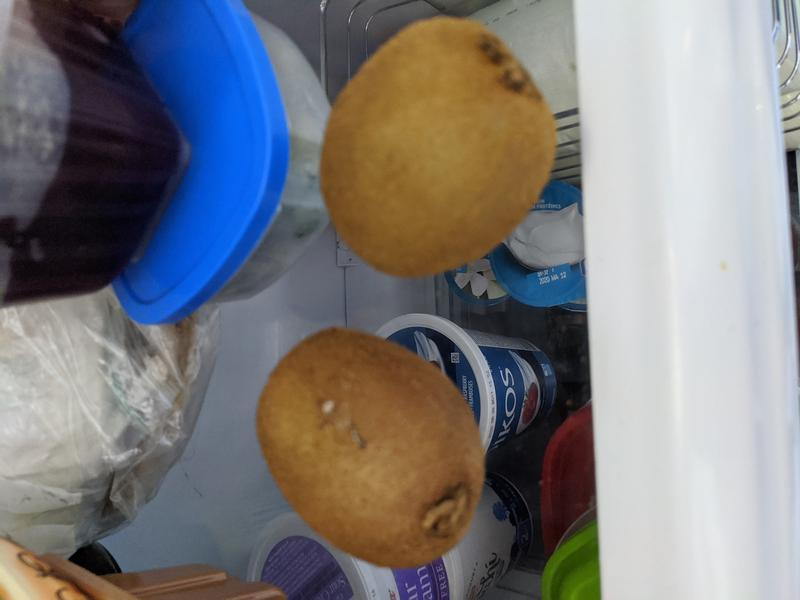kiwi: (318, 15, 559, 281), (255, 327, 486, 570)
